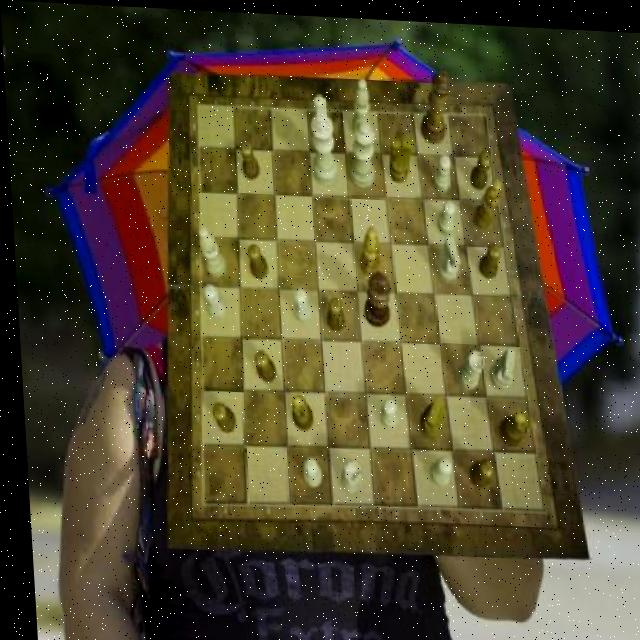bishop: (469, 174, 501, 228), (356, 222, 378, 273)
black-bishop: (360, 267, 390, 324)
black-king: (386, 132, 412, 179), (414, 391, 441, 434)
black-knight: (467, 147, 491, 186), (475, 238, 499, 273), (463, 454, 489, 484), (240, 139, 259, 178), (245, 242, 266, 277), (251, 348, 273, 381), (208, 402, 232, 432), (322, 294, 341, 330)
black-pawn: (418, 63, 454, 140)
black-queen: (495, 405, 529, 443), (287, 392, 309, 429)
black-rook: (196, 225, 223, 277), (349, 74, 371, 135)
white-bishop: (309, 103, 337, 184)
white-king: (484, 342, 513, 385), (433, 231, 460, 277)
white-knight: (201, 282, 225, 319), (425, 452, 449, 484), (311, 93, 330, 133), (431, 150, 450, 188), (290, 285, 310, 320), (435, 196, 455, 231), (296, 453, 317, 484), (375, 395, 394, 426)
white-pawn: (346, 117, 376, 184)
white-queen: (452, 345, 481, 386), (334, 457, 359, 492)
